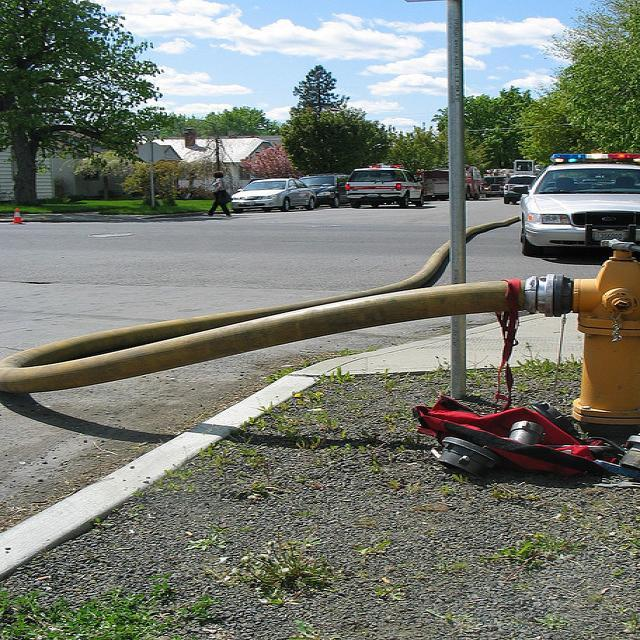fire_hydrant: (526, 236, 640, 430)
